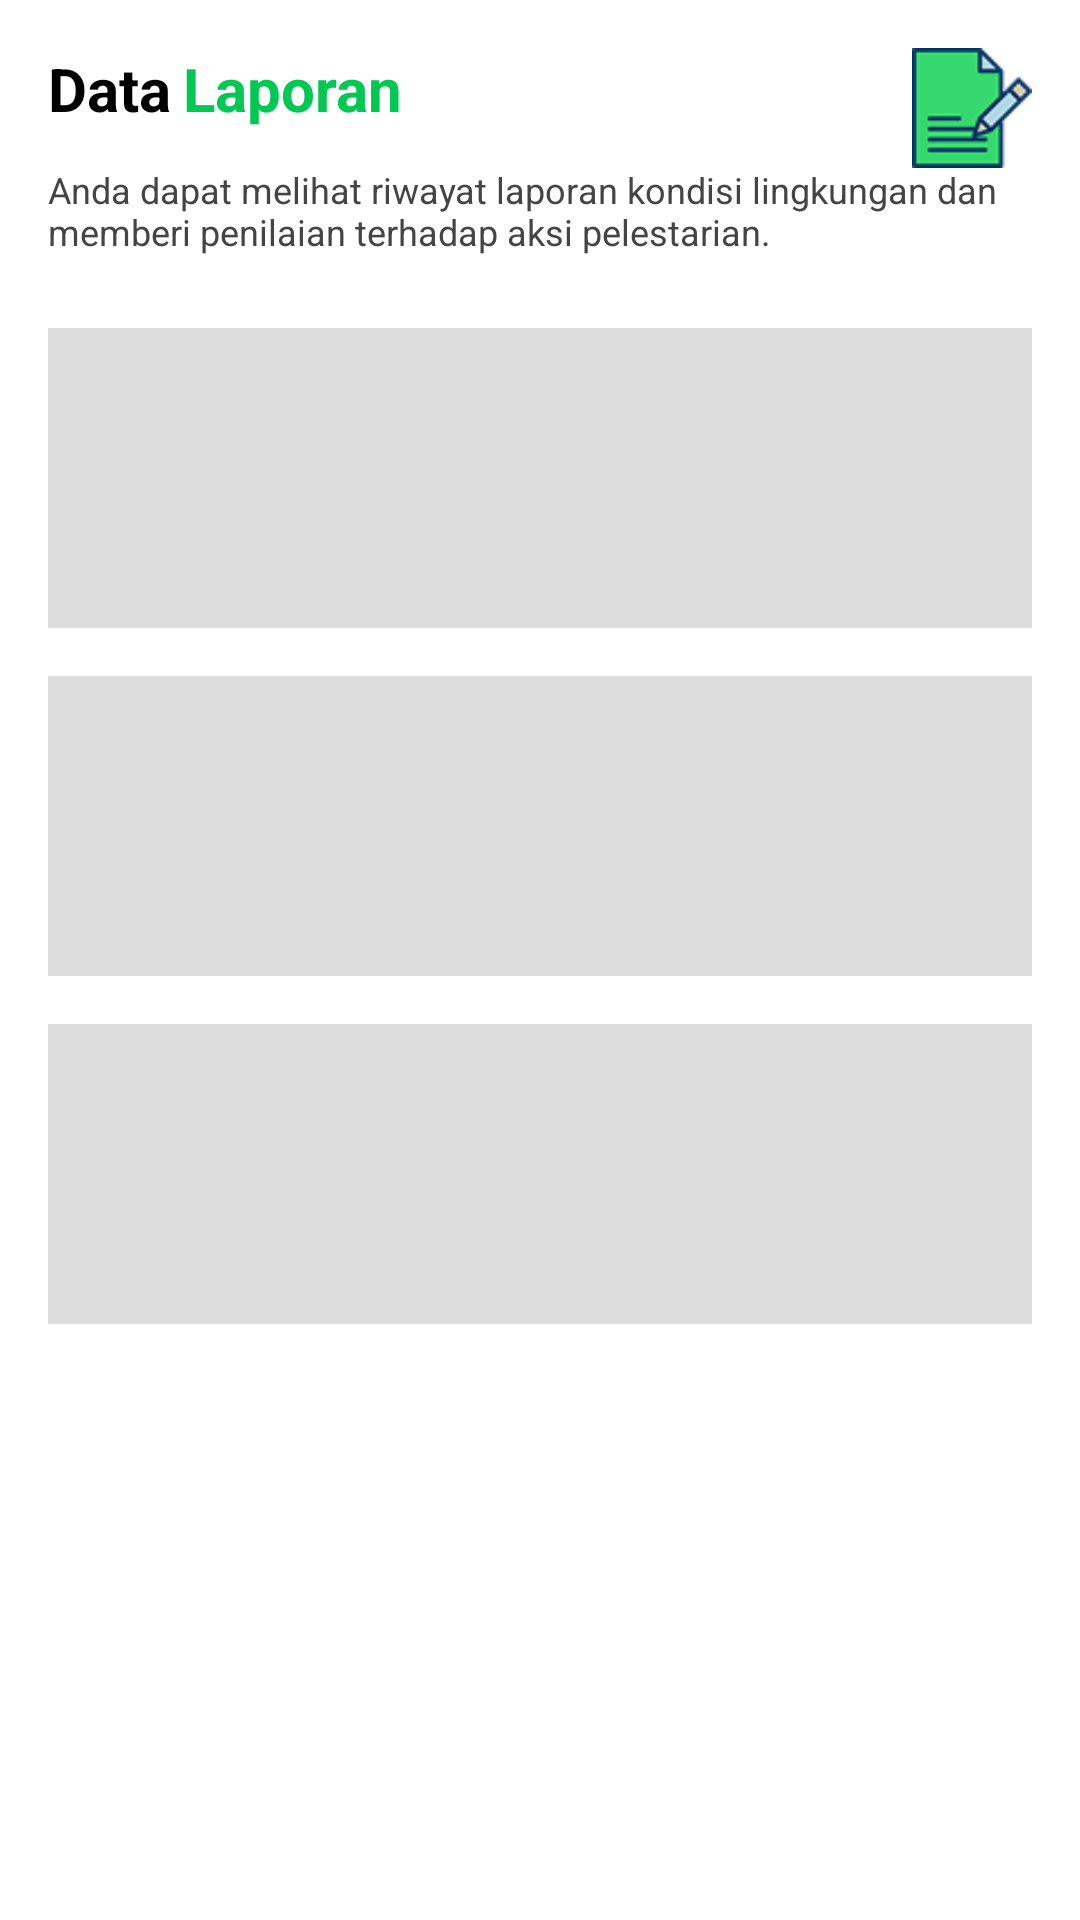

Point at icon controls on the screen. Image size 1080px×1920px, points as point (x, y).
report: point (972, 108)
